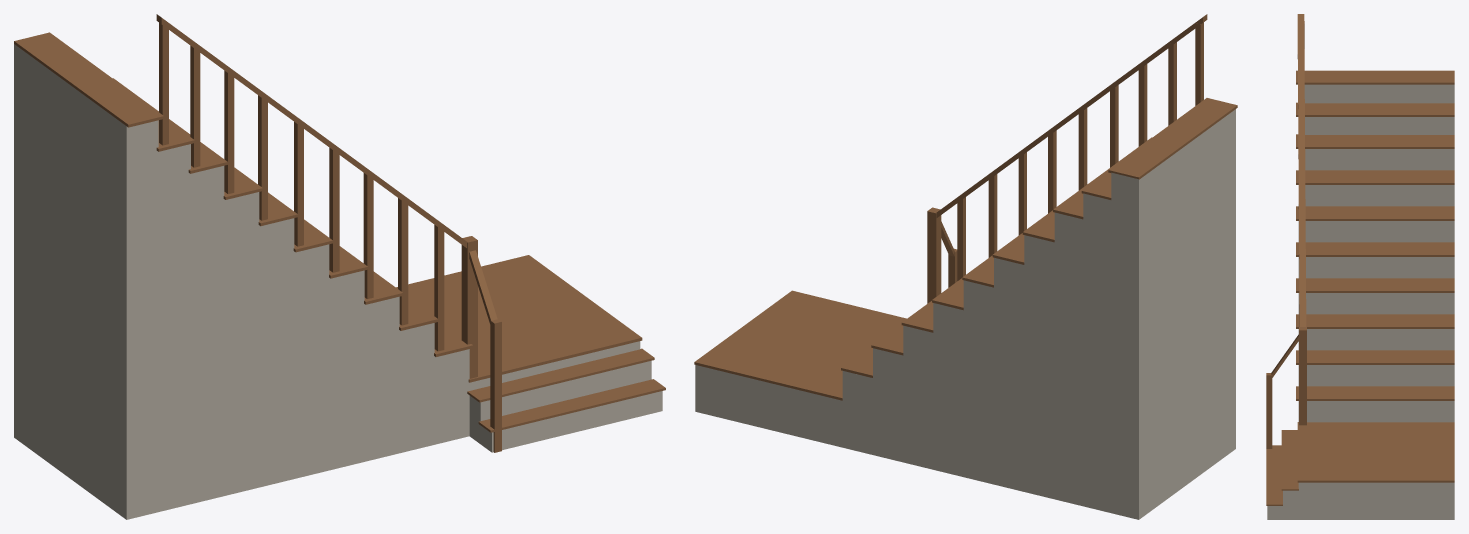
The model's file is Stairs_01.fbx.
3 views of the same model, side by side, from view 1: azimuth 30°, elevation 25°; view 2: azimuth 150°, elevation 25°; view 3: azimuth 270°, elevation 25° (orthographic). The views are drawn at different scales.
Parts seen in each view (by area): view 1: Stairs_01; view 2: Stairs_01; view 3: Stairs_01.
Part boxes in pixels (bbox=[...]): Stairs_01: bbox=[14, 14, 665, 519]; Stairs_01: bbox=[694, 14, 1237, 519]; Stairs_01: bbox=[1266, 14, 1454, 519].
Size of the model in its own units: 345 by 316 by 157.
